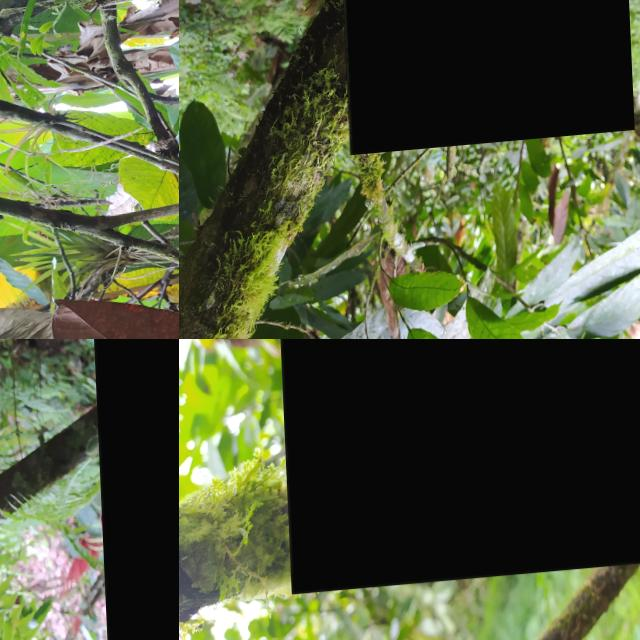Fitoftora: (275, 339, 640, 596), (336, 0, 630, 159)
Sana: (91, 339, 179, 640)
